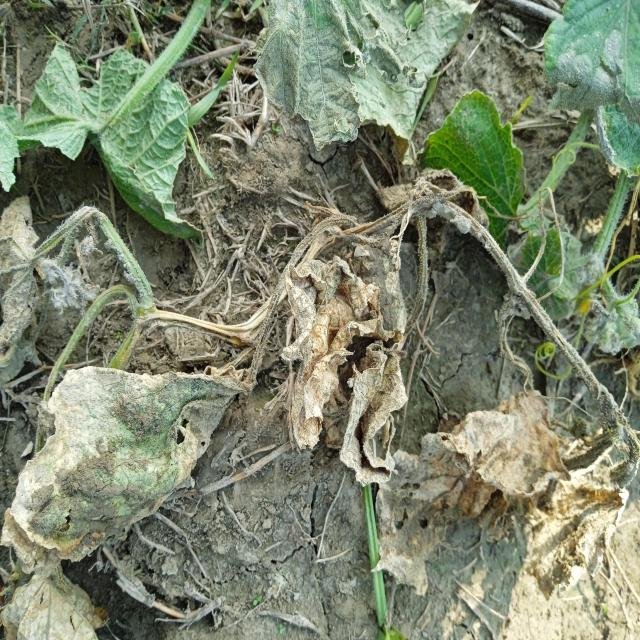cucumber_bacterial: (0, 349, 228, 592), (259, 211, 423, 491), (369, 389, 568, 590), (236, 4, 453, 163), (512, 0, 640, 192)
